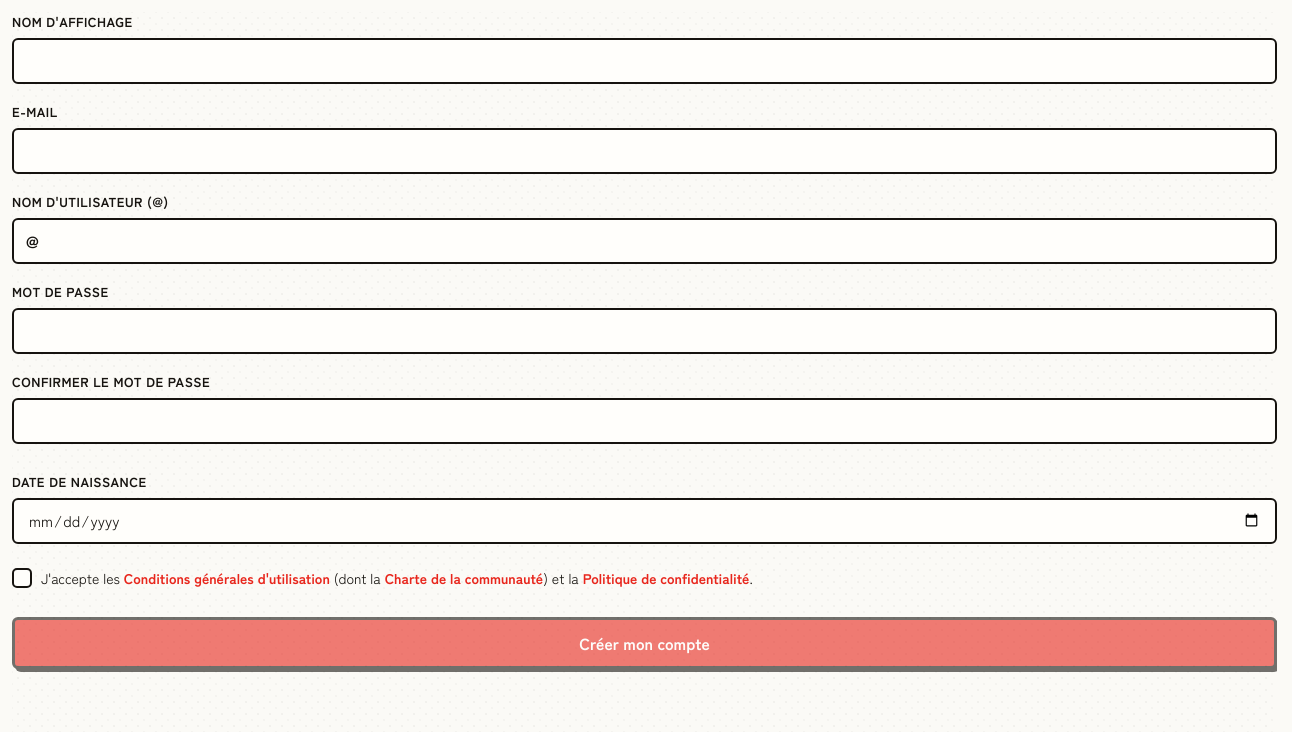
it: SignupForm › auto-suggests the username from the display name (slugified) as the user types
The width and height of the screenshot is (1292, 732).
In the field labelled "Nom d'affichage": point(644, 61) [12,38,1277,84], type "Yüki Moreau"
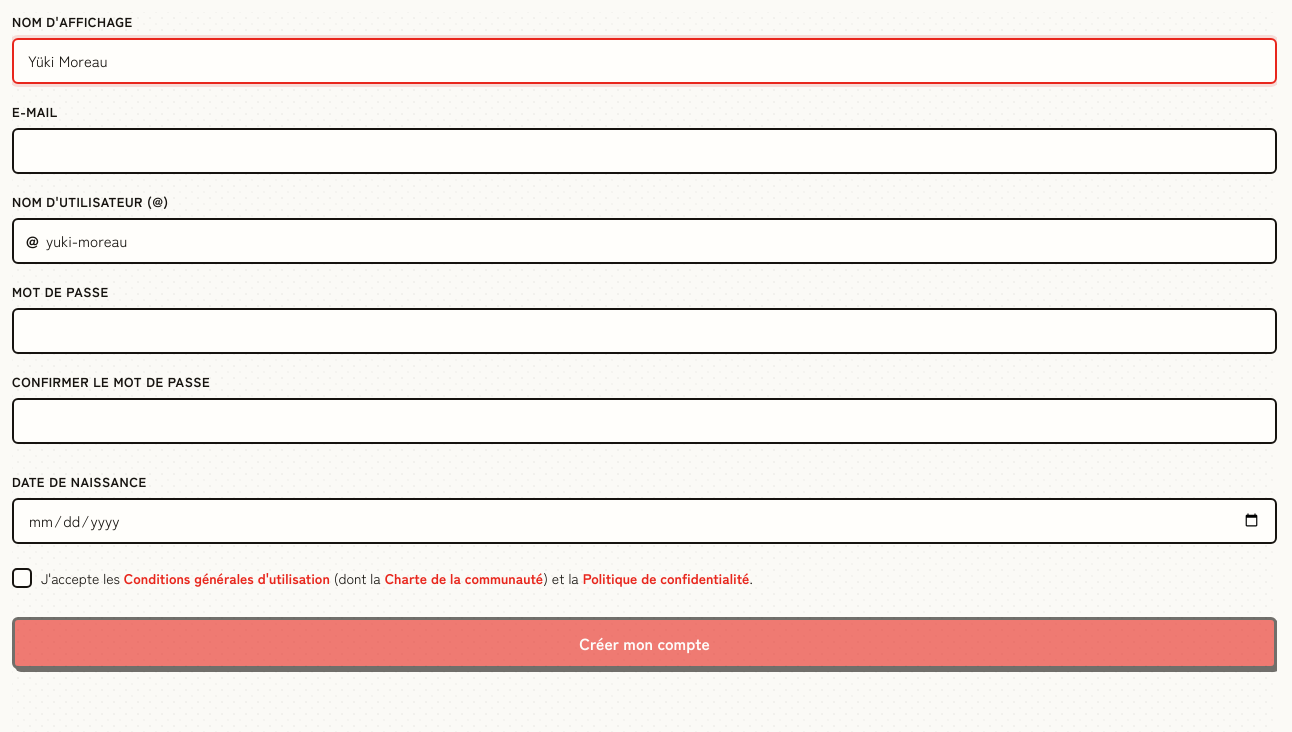
Expected: the field labelled "Nom d'utilisateur (@)" holds "yuki-moreau", [12,218,1277,264]
